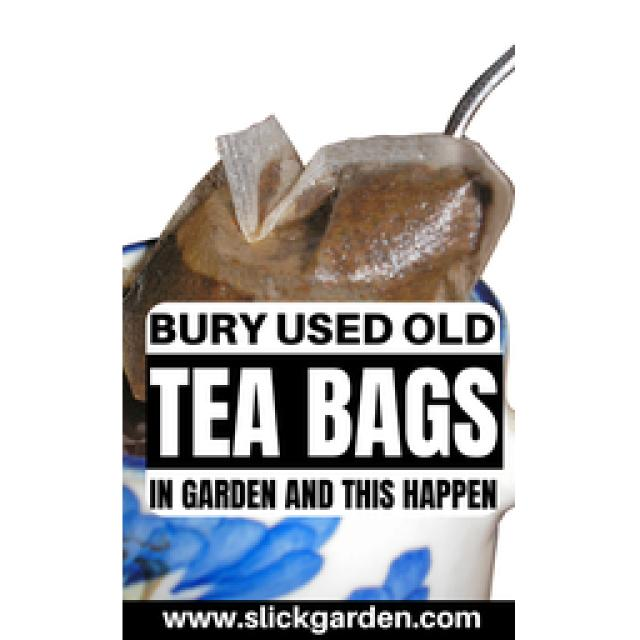tea-bags: (122, 118, 512, 400)
